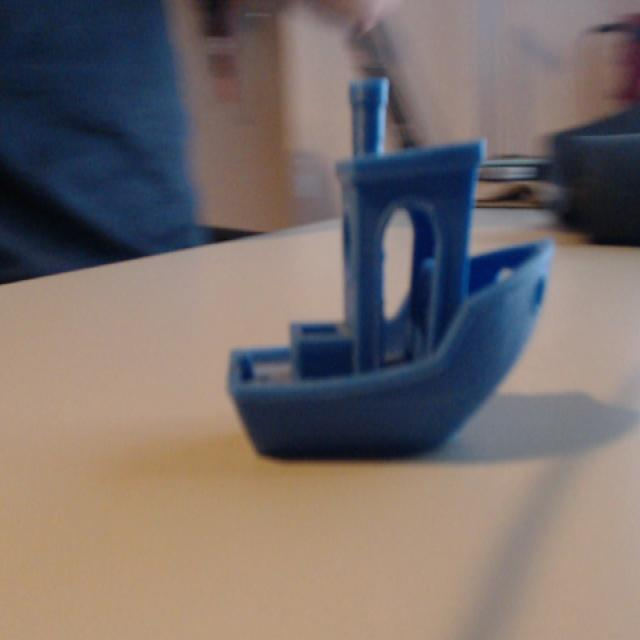benchy: (224, 73, 556, 463)
